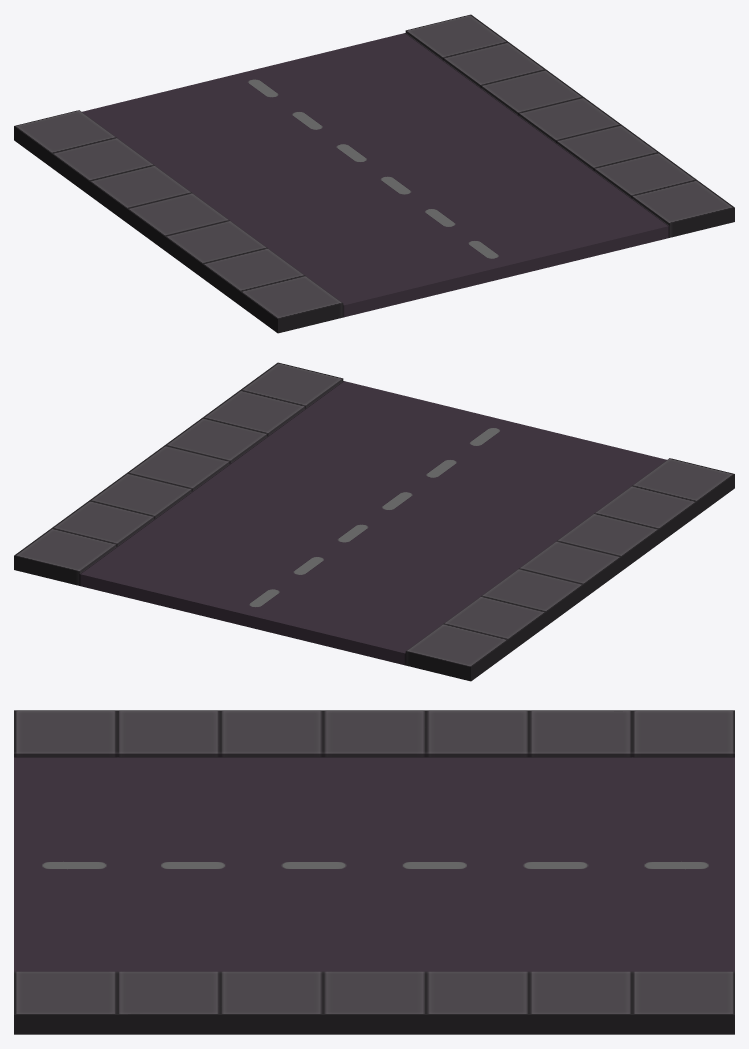
The model's file is mesh_roadStraight.fbx.
3 renders of one model, top to bottom at view 1: azimuth 30°, elevation 25°; view 2: azimuth 150°, elevation 25°; view 3: azimuth 270°, elevation 25°, orthographic. The views are drawn at different scales.
Parts seen in each view (by area): view 1: mesh_roadStraight; view 2: mesh_roadStraight; view 3: mesh_roadStraight.
Boxes of the visible parts, x1=… form: mesh_roadStraight: x1=14, y1=14, x2=734, y2=333; mesh_roadStraight: x1=14, y1=362, x2=734, y2=681; mesh_roadStraight: x1=14, y1=710, x2=734, y2=1034.
Size of the model in its own units: 2000 by 60 by 2000.
1 material, 1 textured.
